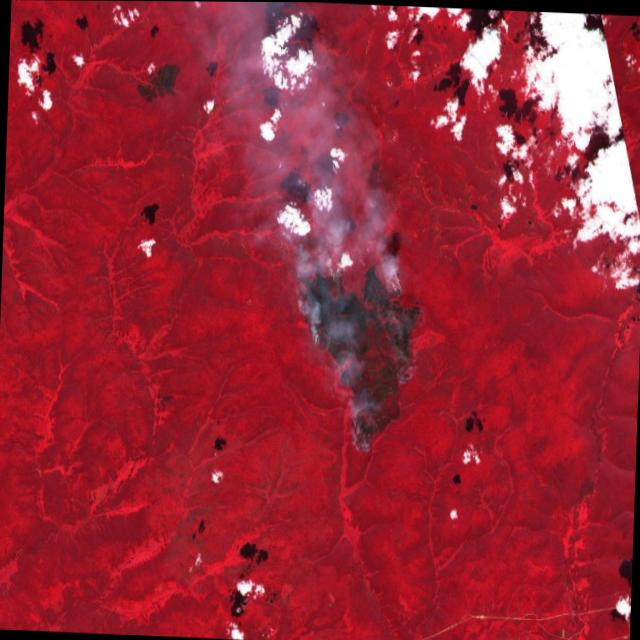fire: (287, 254, 422, 467)
